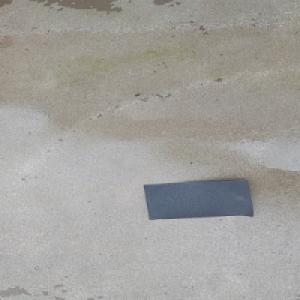PaintChip: (142, 179, 254, 220)
